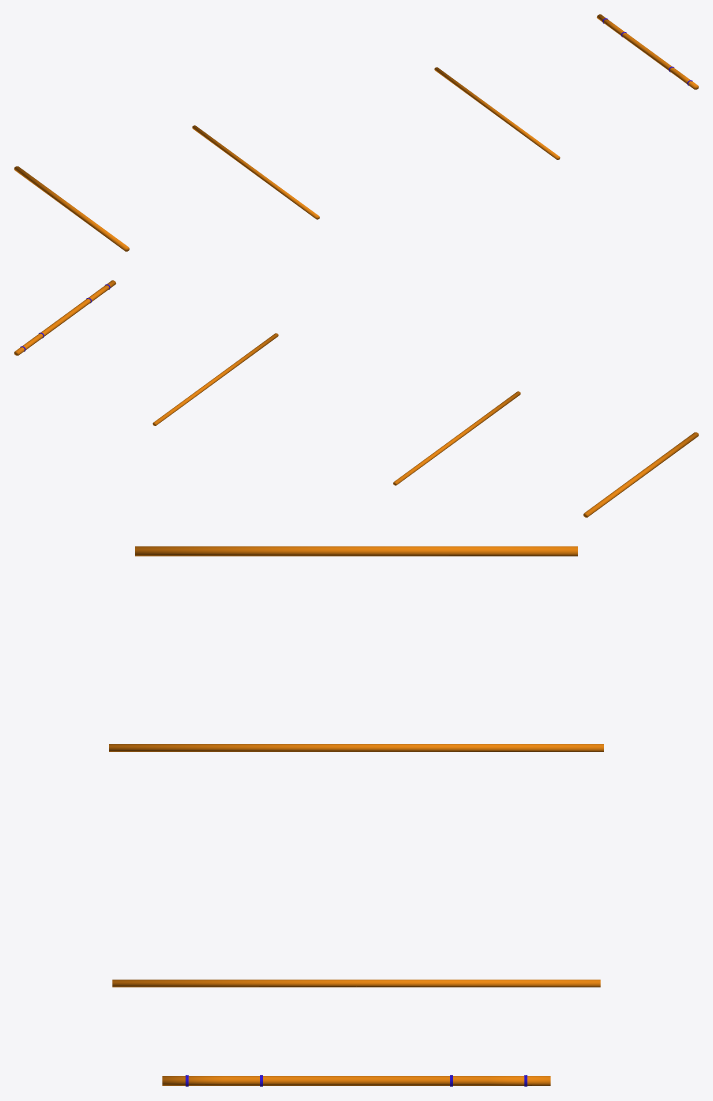
File: SM_Tipairua_HorizontalSticks.fbx
3 views of the same model, one above another, from view 1: azimuth 30°, elevation 25°; view 2: azimuth 150°, elevation 25°; view 3: azimuth 270°, elevation 25° (orthographic). The views are drawn at different scales.
Visible parts, largest first — view 1: SM_TIpairua_Sticks; view 2: SM_TIpairua_Sticks; view 3: SM_TIpairua_Sticks.
Boxes of the visible parts, x1=… form: SM_TIpairua_Sticks: x1=14, y1=14, x2=698, y2=251; SM_TIpairua_Sticks: x1=14, y1=280, x2=698, y2=517; SM_TIpairua_Sticks: x1=109, y1=546, x2=603, y2=1086.
Bounding box in the file's own units: 802 × 2176 × 104.
